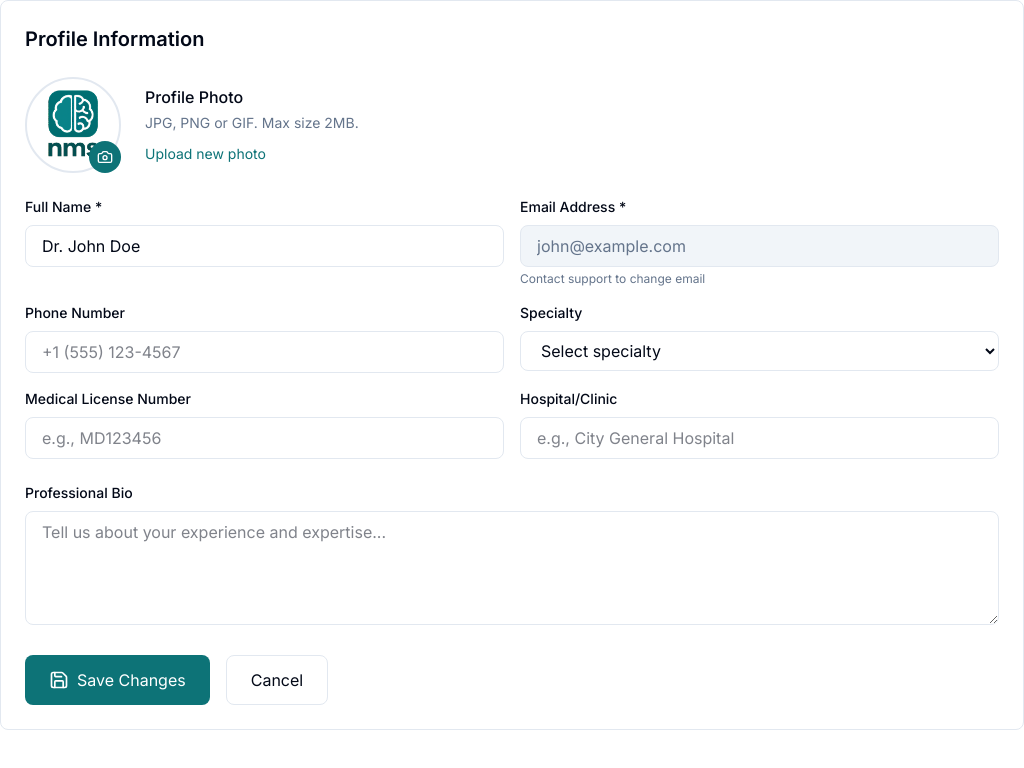
it: ProfileSettings › should disable submit button while loading
Click the button "Save Changes" at (117, 680), box [25, 655, 210, 705]
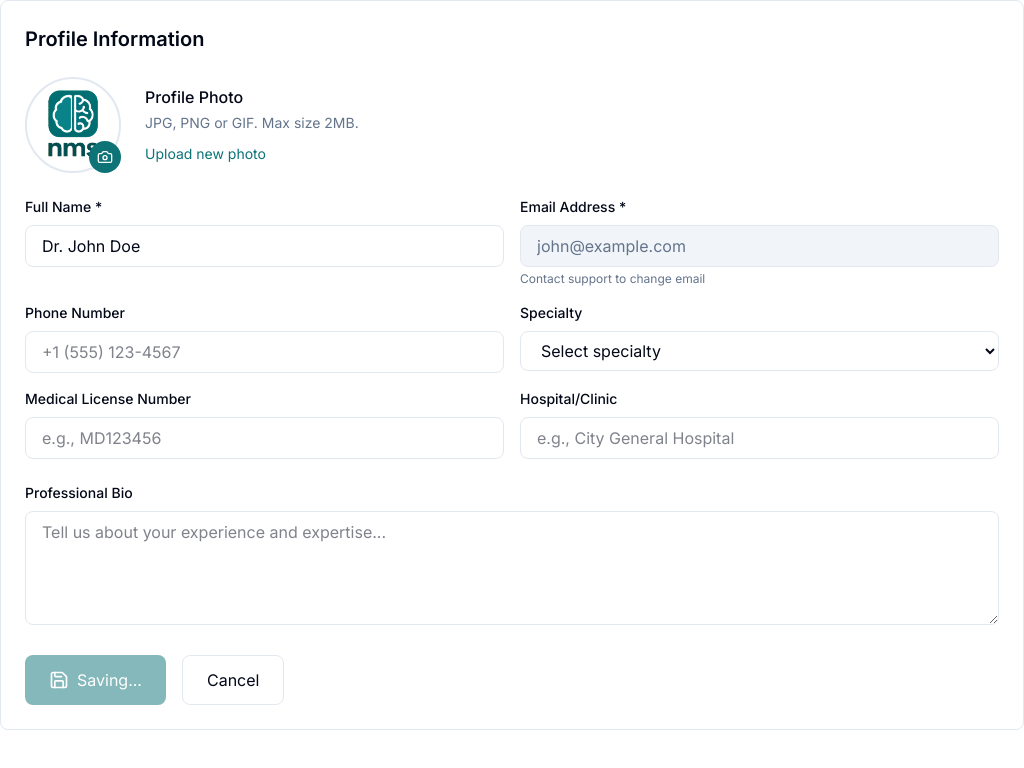
Check: the button "Saving..." is disabled, box [25, 655, 166, 705]
